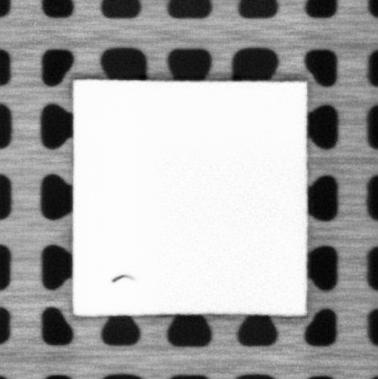DIE_INK: (112, 271, 133, 283)
